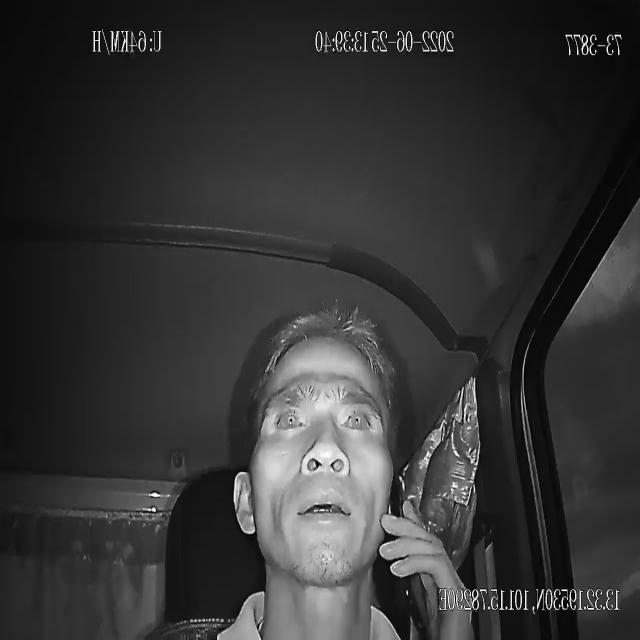phone: (388, 470, 434, 640)
